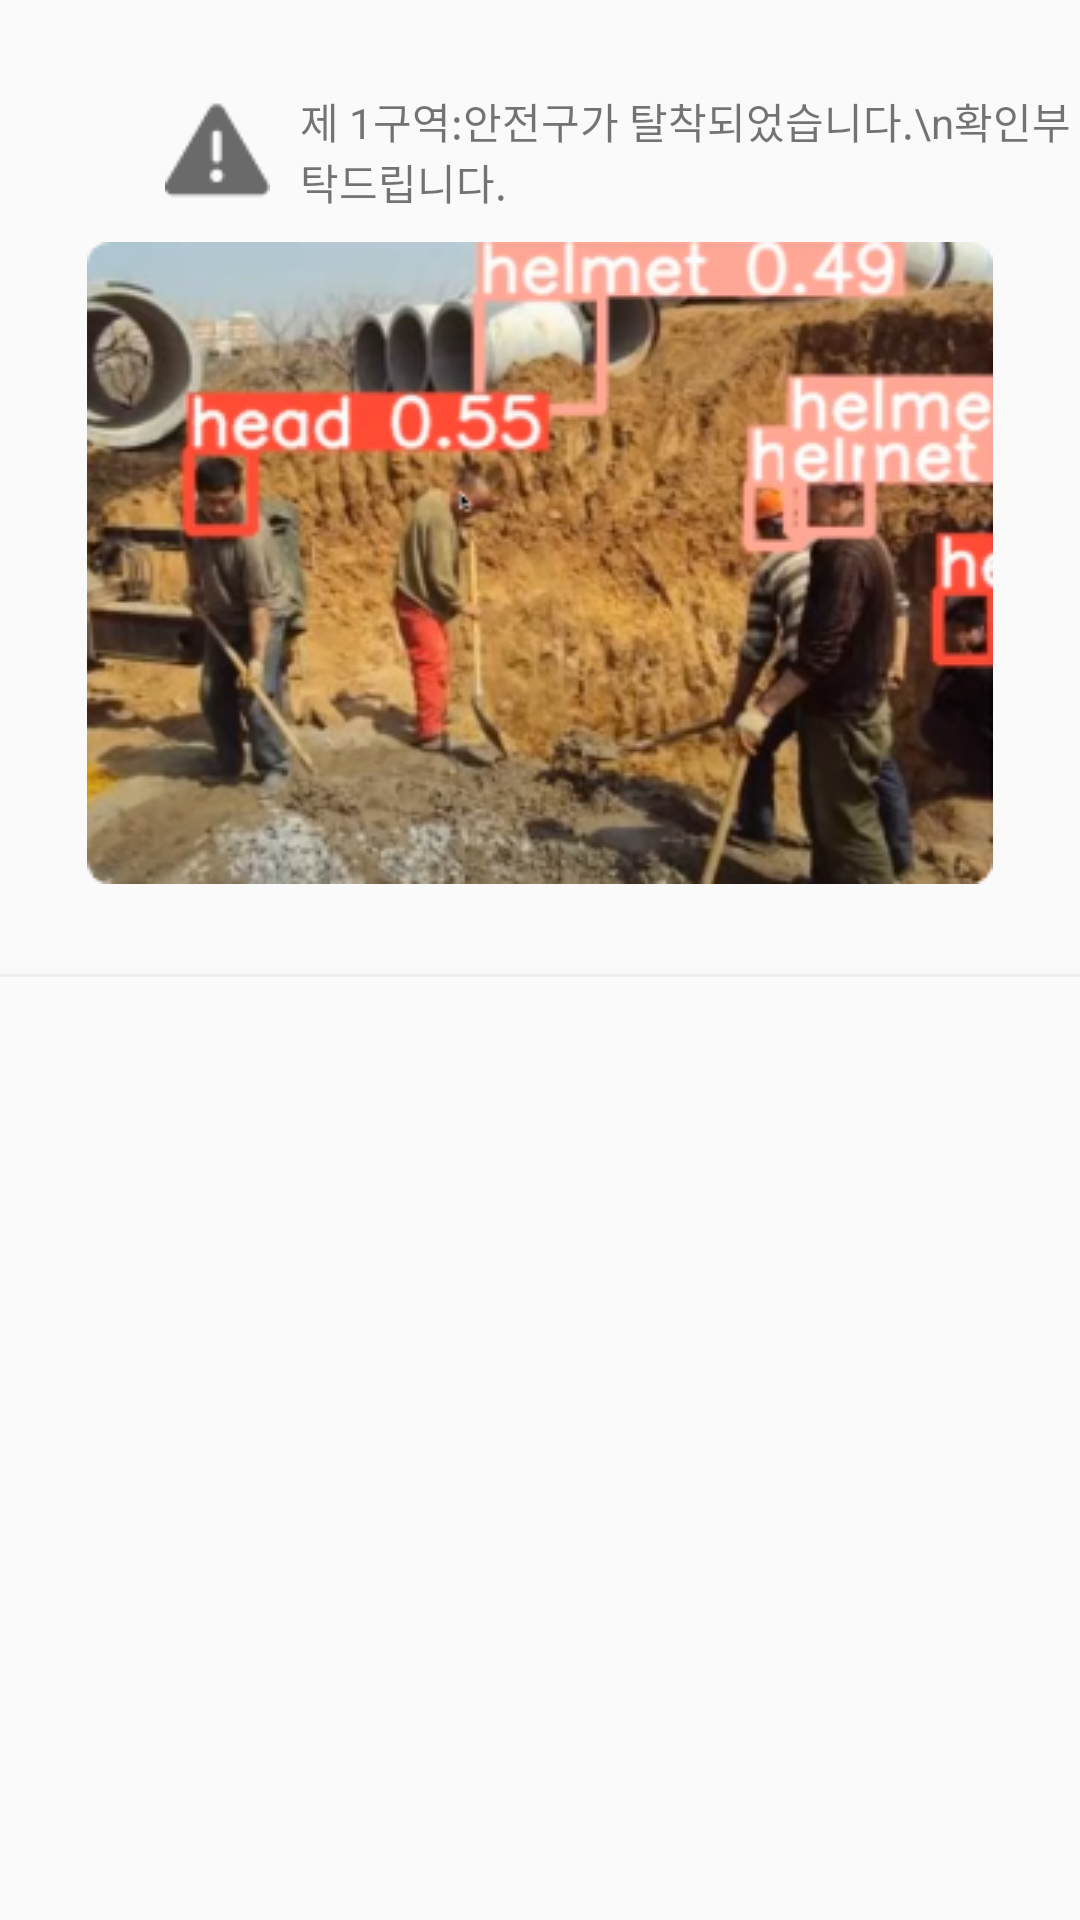

Named icons in this screenshot (1080px x 1920px) and their centers, point (x, y):
error: point (217, 150)
